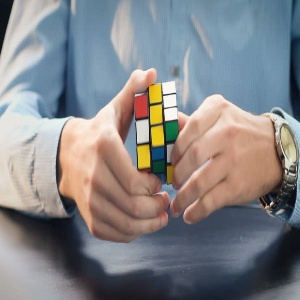cube: (134, 81, 181, 188)
